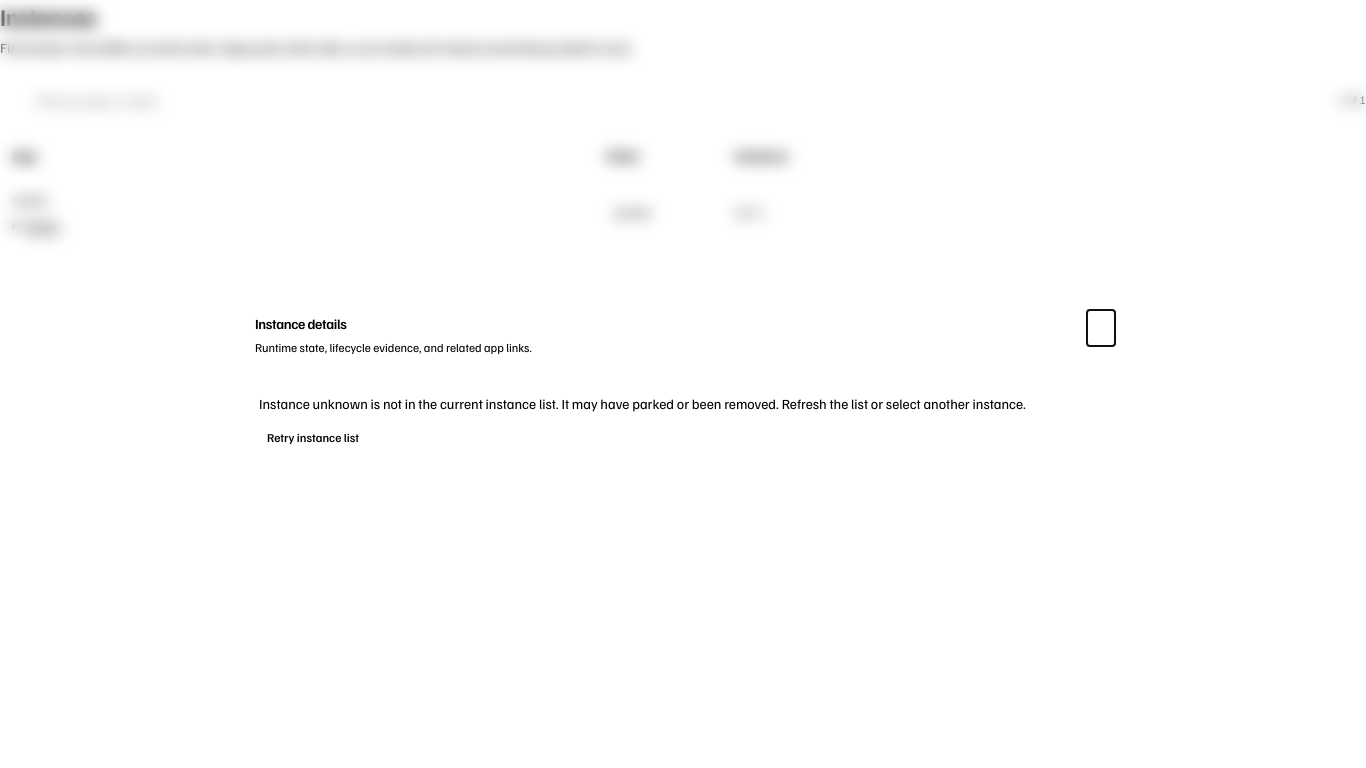
Test: Instance details › does not fetch nested resources for a missing selection
Expected: the text "not in the current instance list" is shown, [259,395,1026,412]
Click the button named "Close". click: (1101, 328)
box: [1087,310,1115,346]
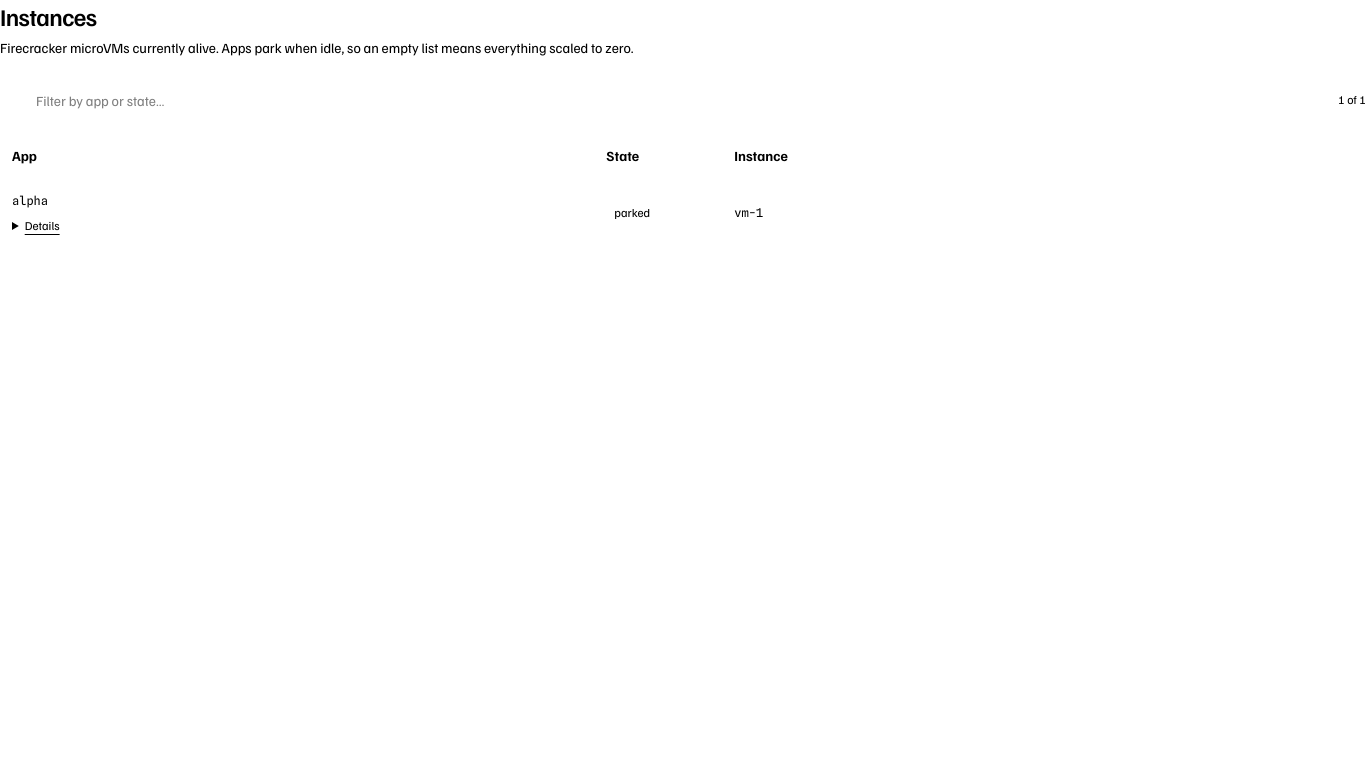
Expected: the heading "Instance details" is gone
